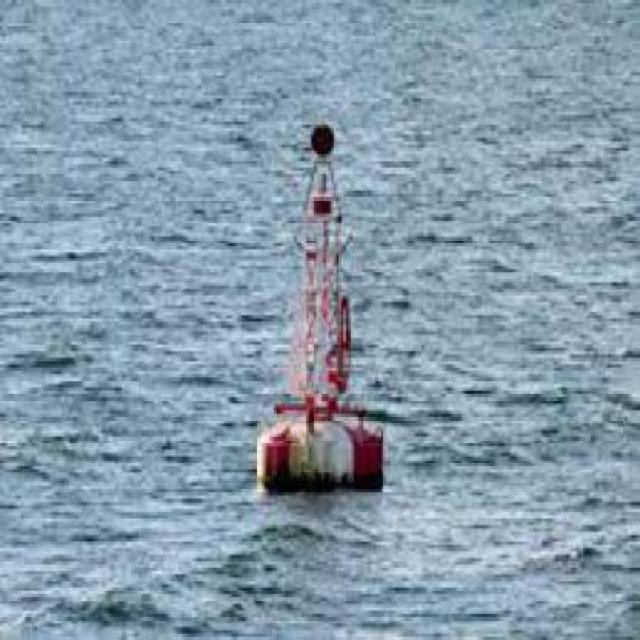buoy: (241, 116, 404, 503)
